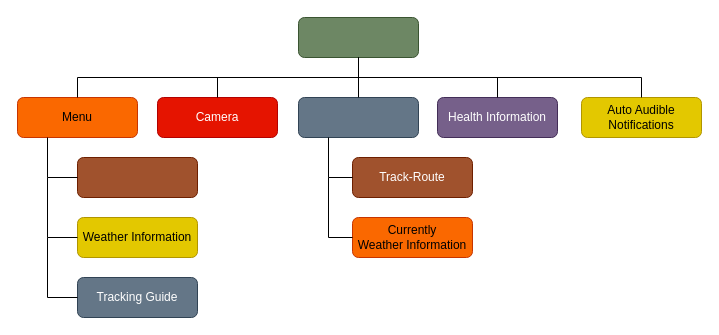
The diagram is 719 pixels wide and 335 high, and some of its shapes have lost their labels. The box of each missing label's shape, as (x1, y1, x2, y2) in pixels:
Dashboard: (298, 96, 418, 138)
Mountain List: (76, 156, 198, 198)
SI GUNUNG: (298, 16, 418, 58)
